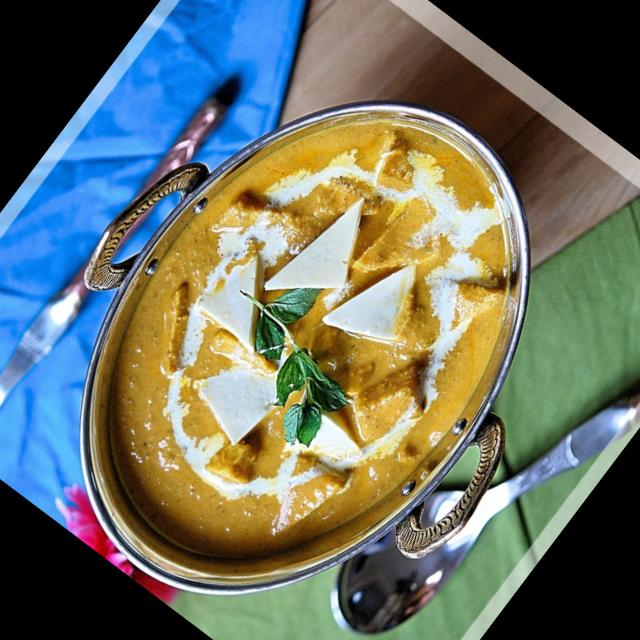ShahiPaneer: (30, 45, 589, 634)
